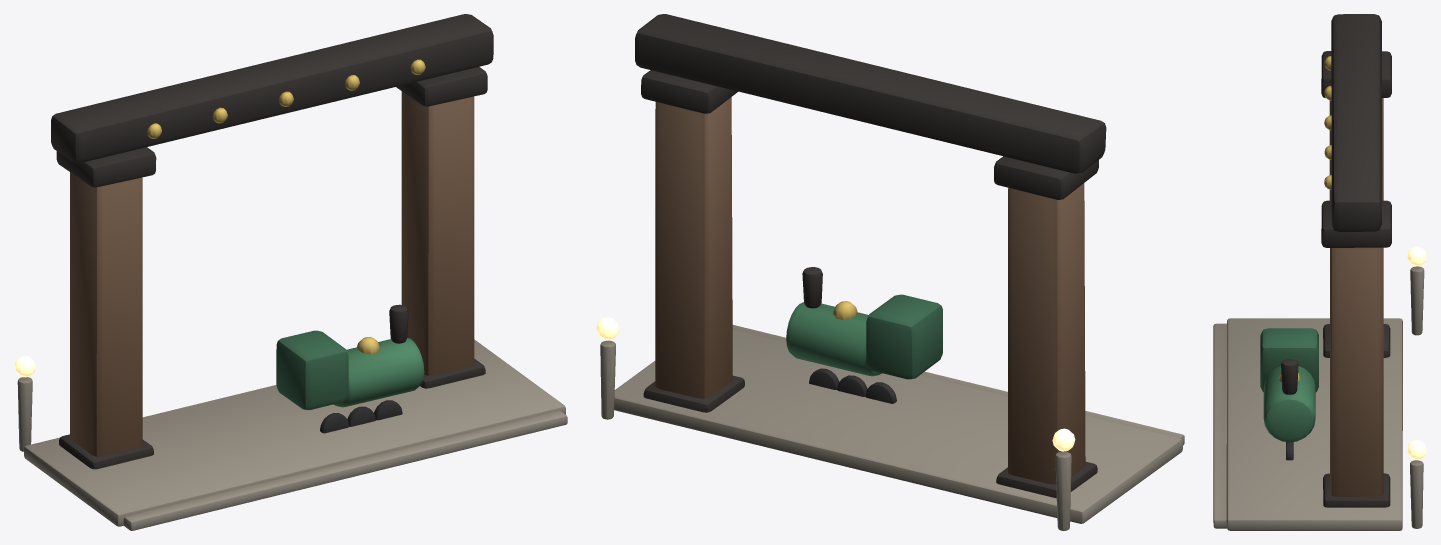
3 views of the same model, side by side, from view 1: azimuth 30°, elevation 25°; view 2: azimuth 150°, elevation 25°; view 3: azimuth 270°, elevation 25° (orthographic). The views are drawn at different scales.
Visible parts, largest first — view 1: gate_28e9d7f0; view 2: gate_28e9d7f0; view 3: gate_28e9d7f0.
Part boxes in pixels (x1,y1,x2,y2): gate_28e9d7f0: [14, 14, 567, 530]; gate_28e9d7f0: [596, 14, 1184, 530]; gate_28e9d7f0: [1213, 14, 1426, 530].
Size of the model in its own units: 5.73 by 4.28 by 2.55.
